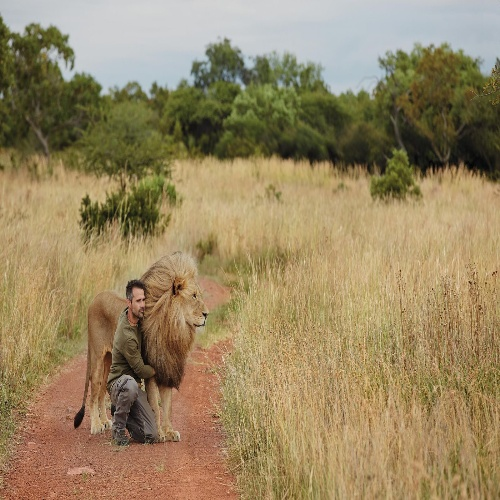lion: (151, 254, 227, 383)
